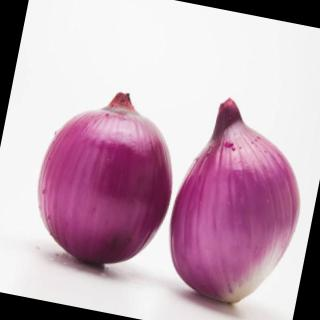Bawang Merah: (154, 89, 320, 319), (21, 76, 192, 281)
